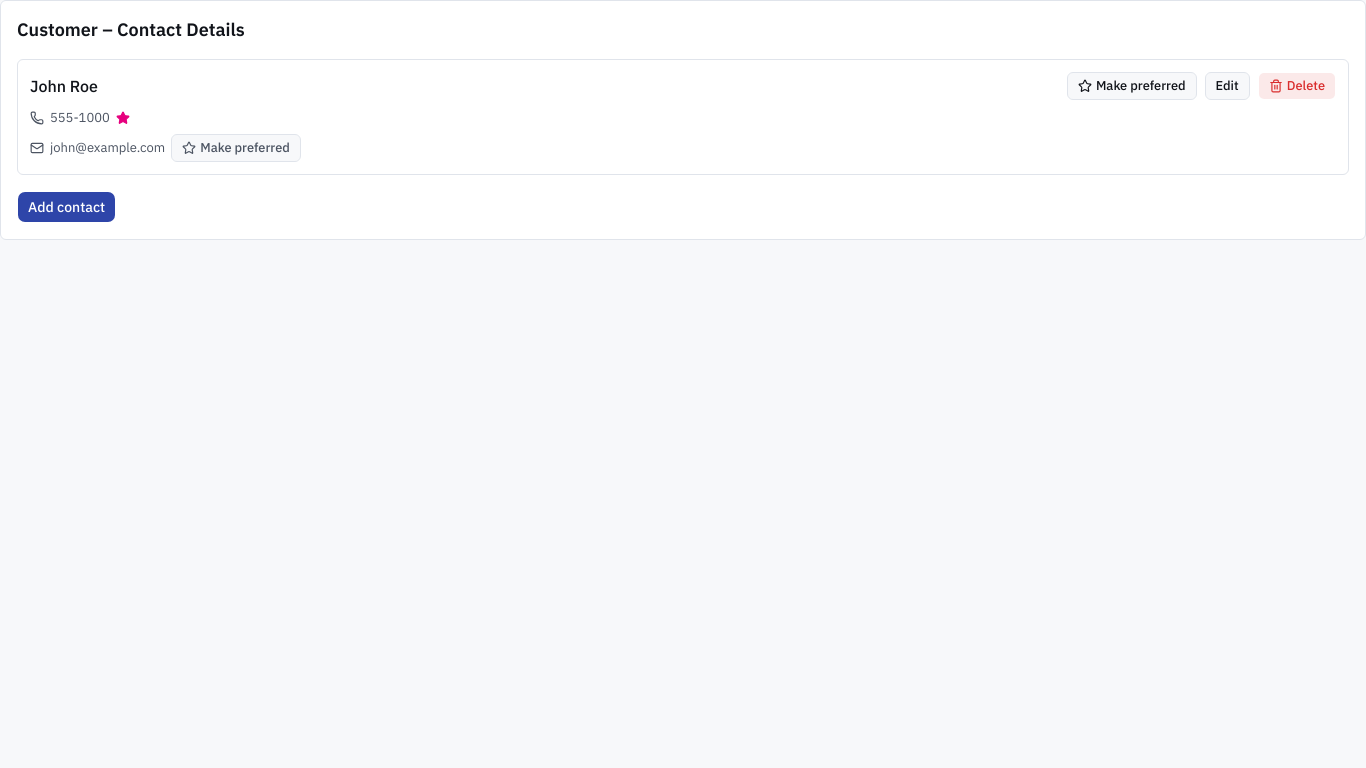
Test: ContactManagerPanel › a CONFLICT result from an edit shows the reload-prompt banner
Click the button "Edit" at (1227,86), box x1=1205 y1=72 x2=1250 y2=100
(page scrolled)
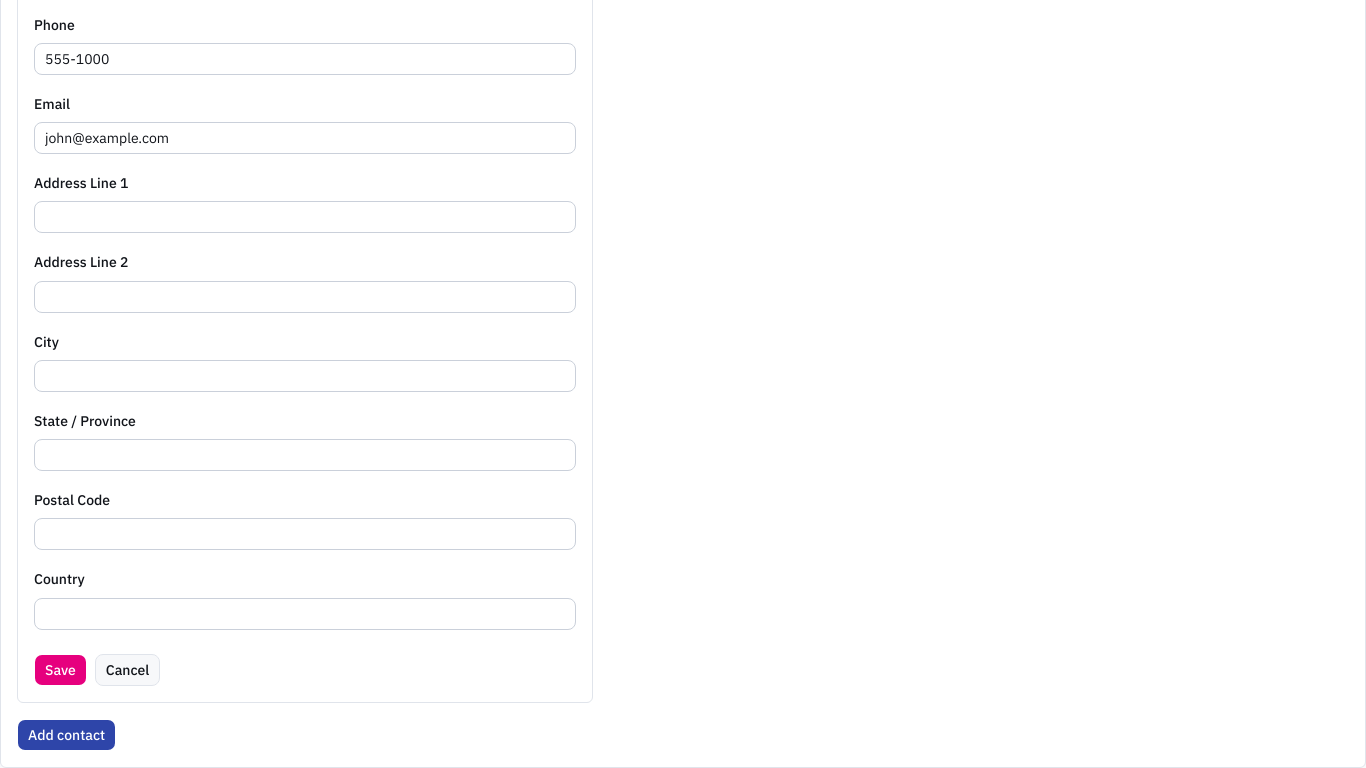
Click the button "Save" at (60,670), box x1=34 y1=654 x2=87 y2=686
(page scrolled)
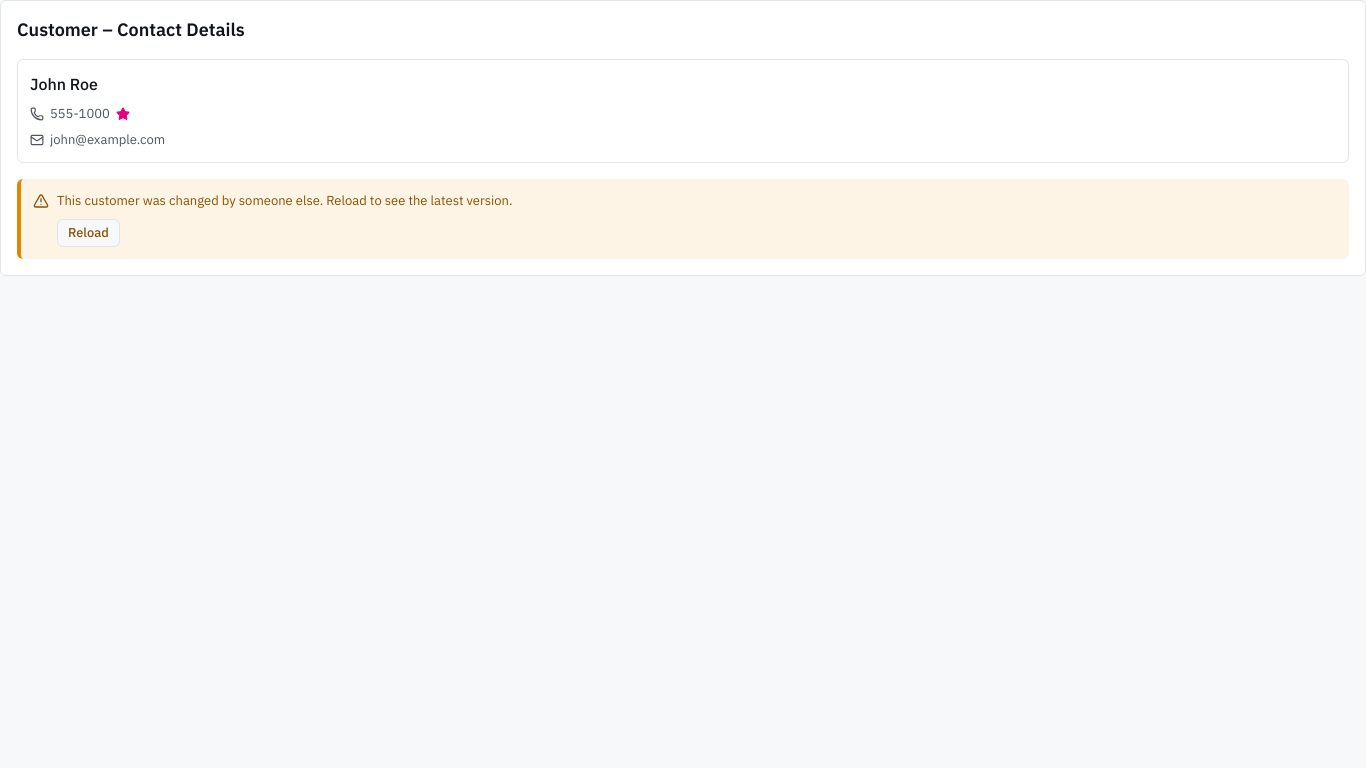
Expected: the text "This customer was changed by someone else. Reload to see the latest version." is shown, x1=57 y1=191 x2=512 y2=211
